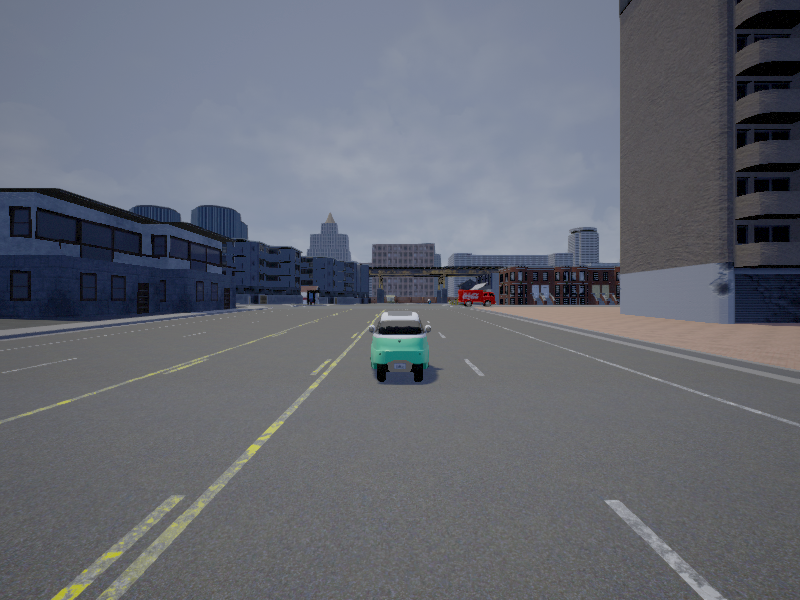Benign: (368, 311, 431, 382), (458, 291, 496, 306)
